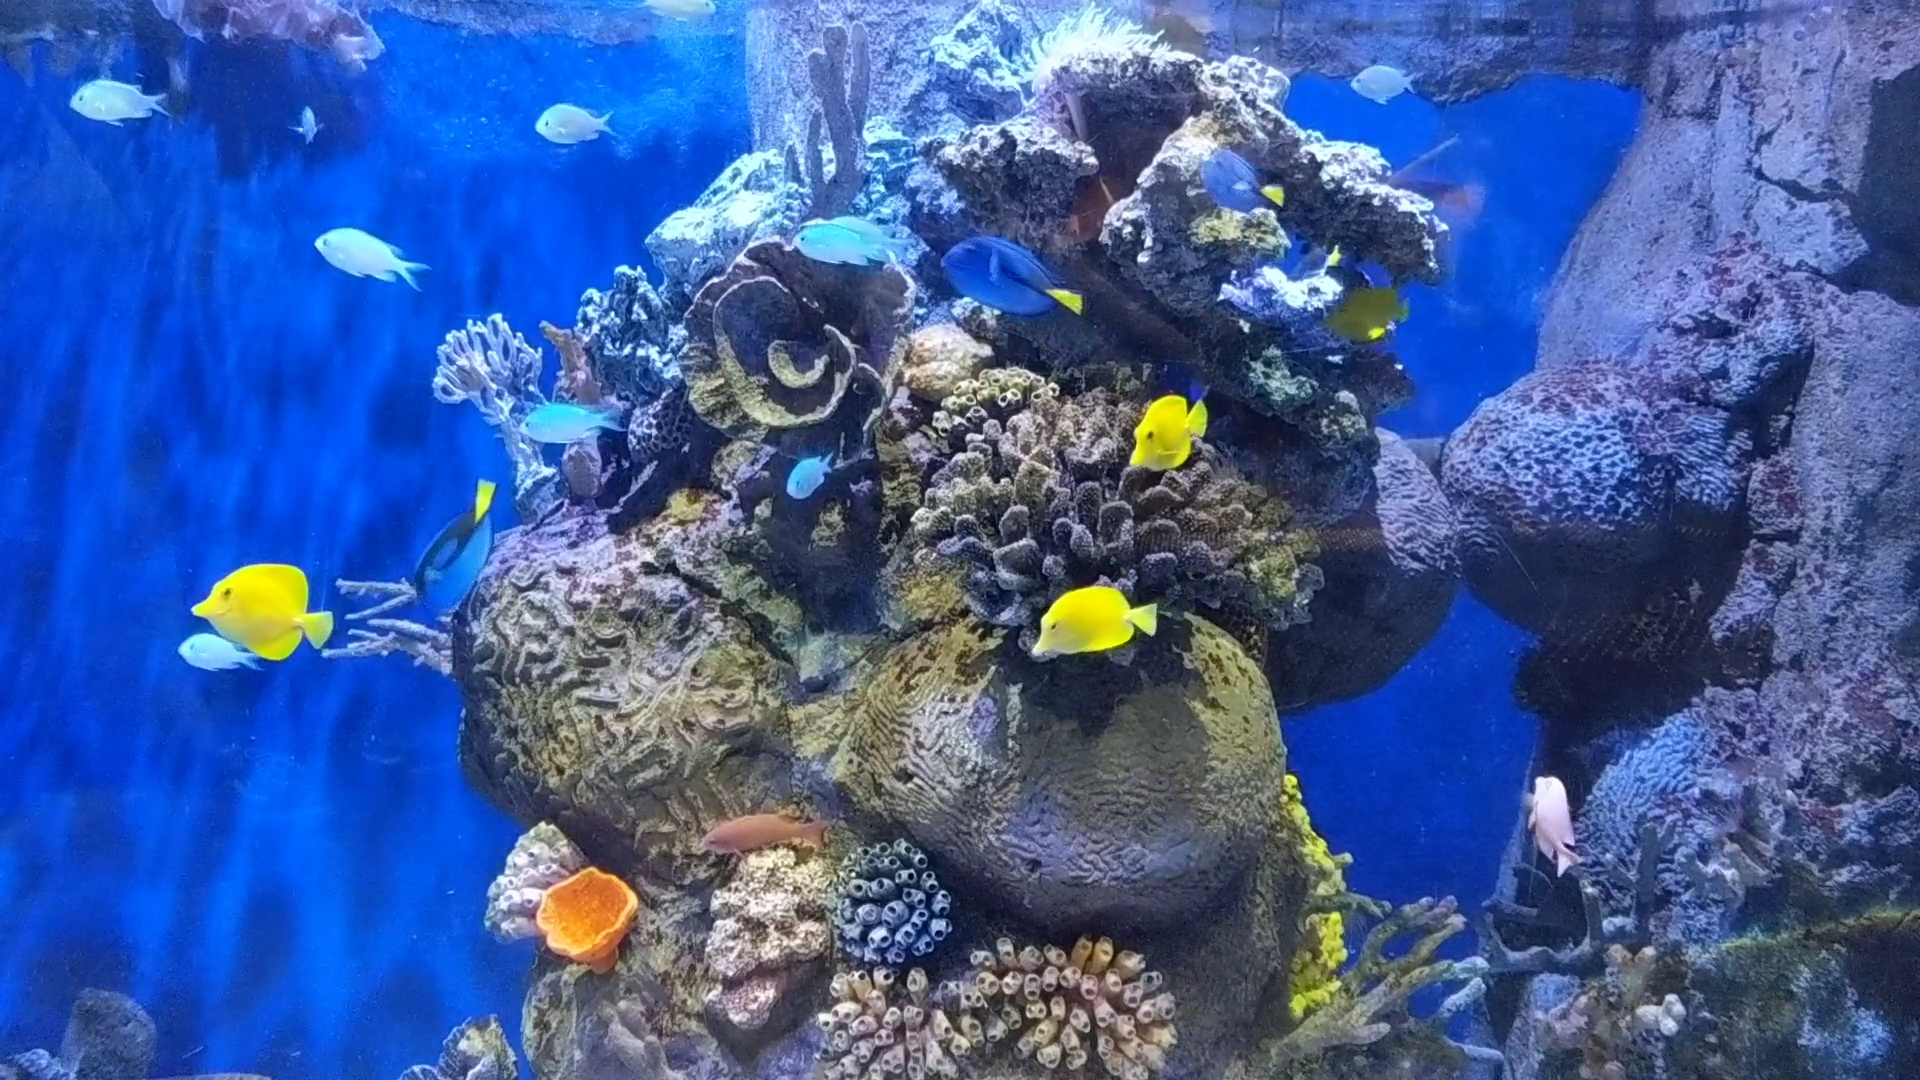blue tang surgeonfish: (394, 472, 512, 630), (934, 218, 1091, 326), (1187, 129, 1300, 227)
damselfish: (313, 200, 433, 298), (61, 63, 178, 142), (777, 199, 897, 262), (508, 392, 628, 444), (526, 83, 616, 152), (158, 626, 268, 678), (1344, 53, 1425, 111), (785, 444, 843, 502), (282, 99, 326, 149)
pink fish: (1505, 746, 1596, 891)
saddle butterfly fish: (178, 553, 336, 670), (1017, 572, 1171, 673), (1106, 394, 1225, 472)
